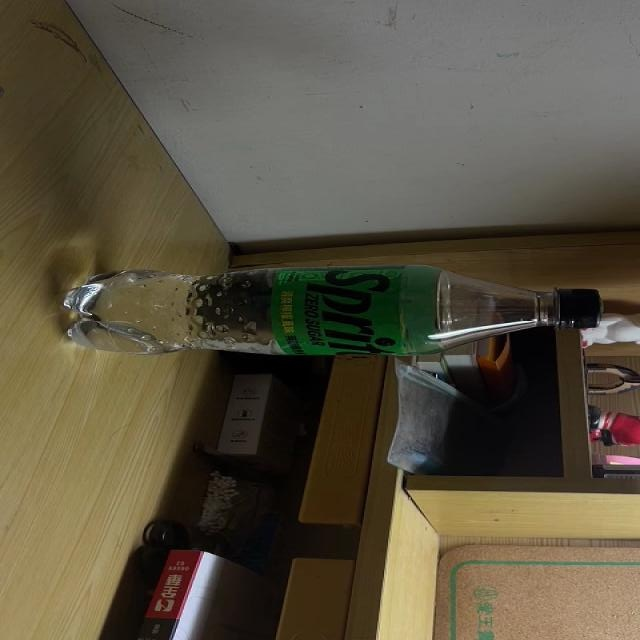Sprite: (59, 264, 604, 359)
